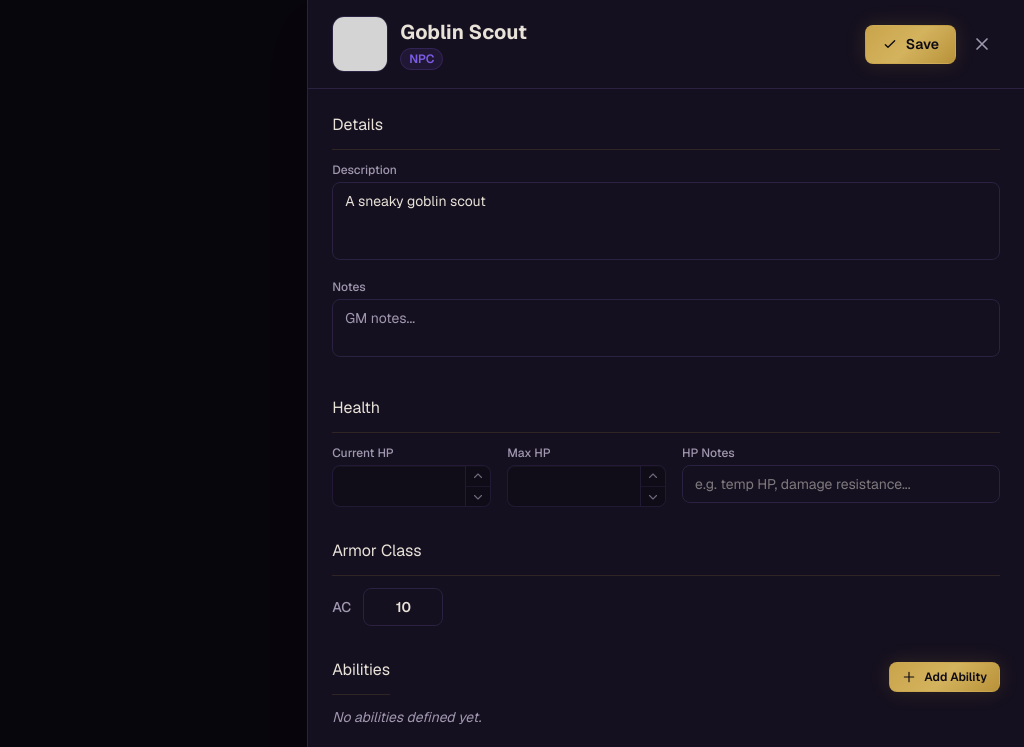
it: CreatureDrawer › Child ability create › shows error message when create fails
Expected: the heading "Abilities" is shown, [332,658,390,695]
Click the button "Add Ability": (945, 676) [889,662,1000,692]
(page scrolled)
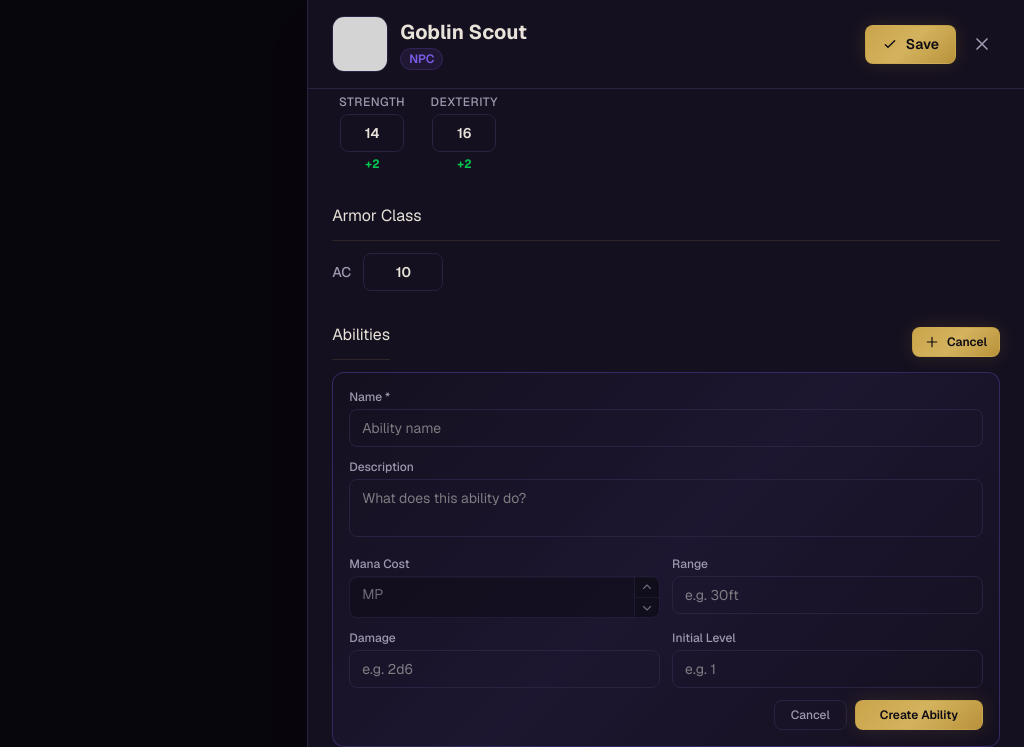
In the field with placeholder "Ability name": (666, 428) [349,409,983,447], type "Fire Breath"
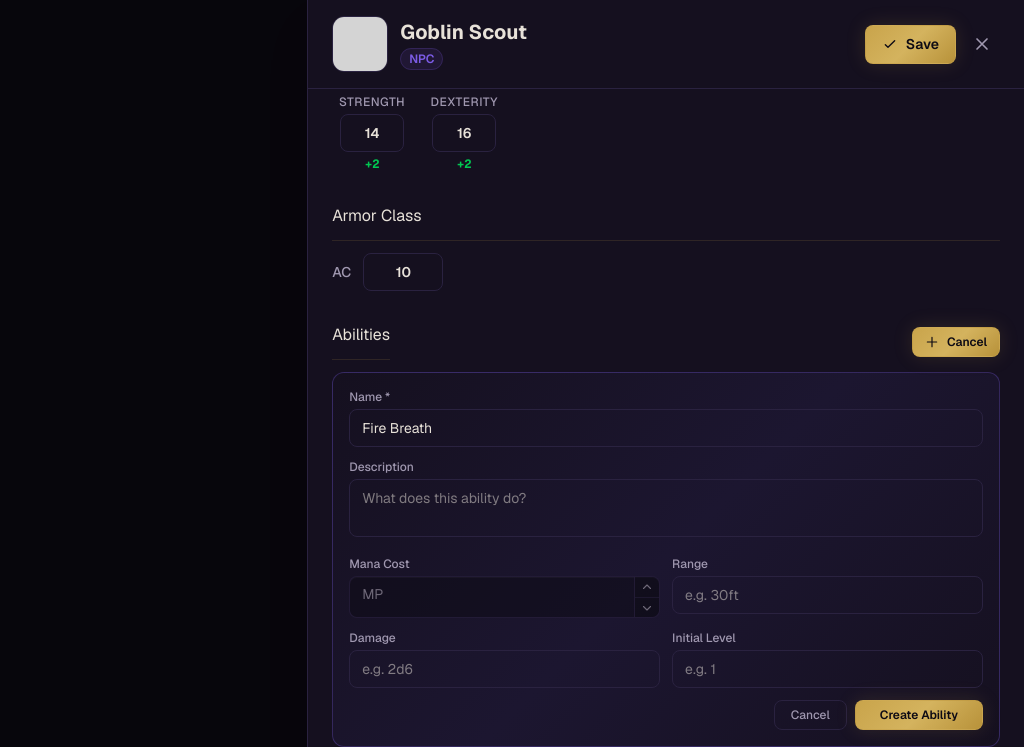
Click the button "Create Ability": (919, 715) [855,700,983,730]
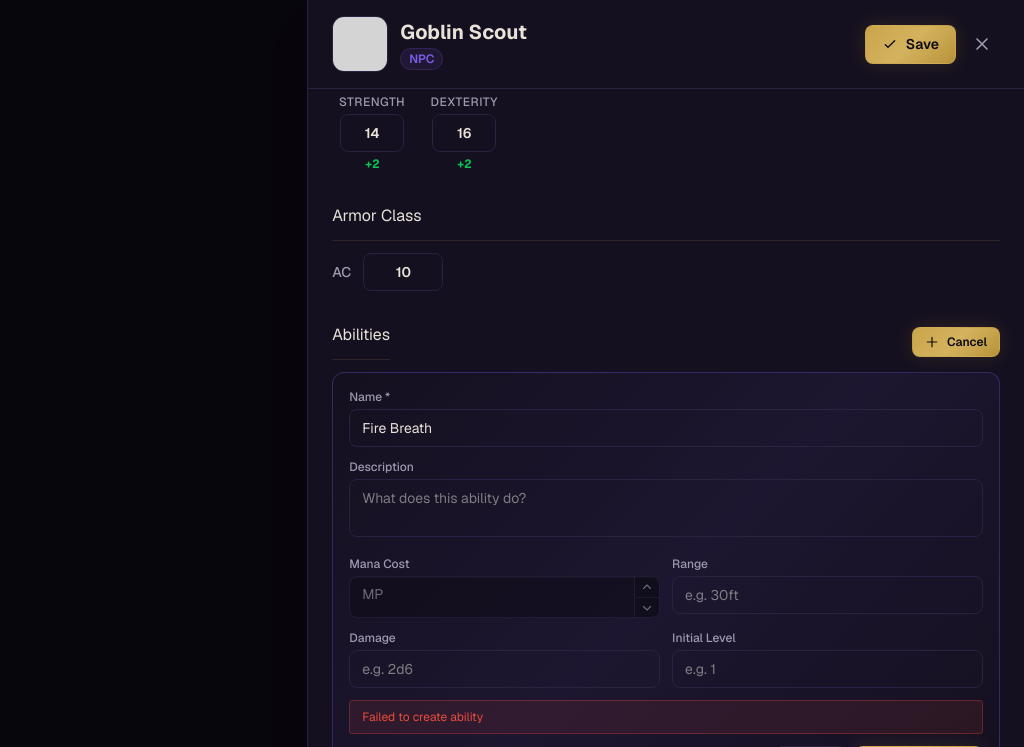
Now the text "Failed to create ability" is shown, box [349,700,983,734]
